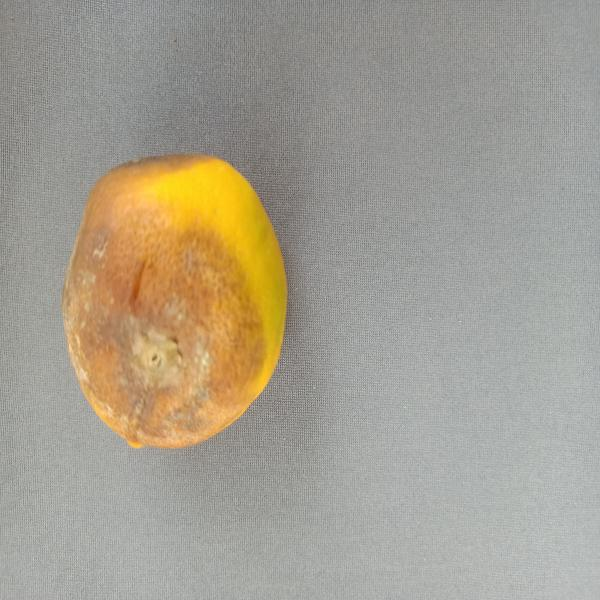Scab: (45, 140, 302, 458)
